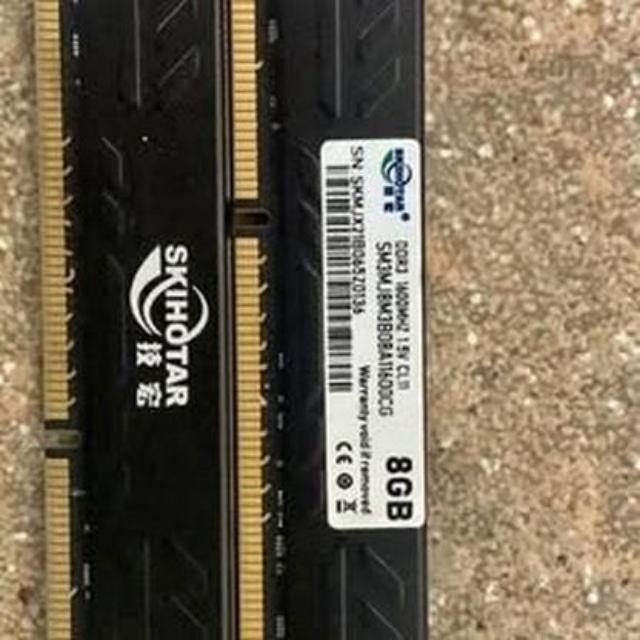RAM: (14, 0, 234, 640), (230, 0, 428, 640)
